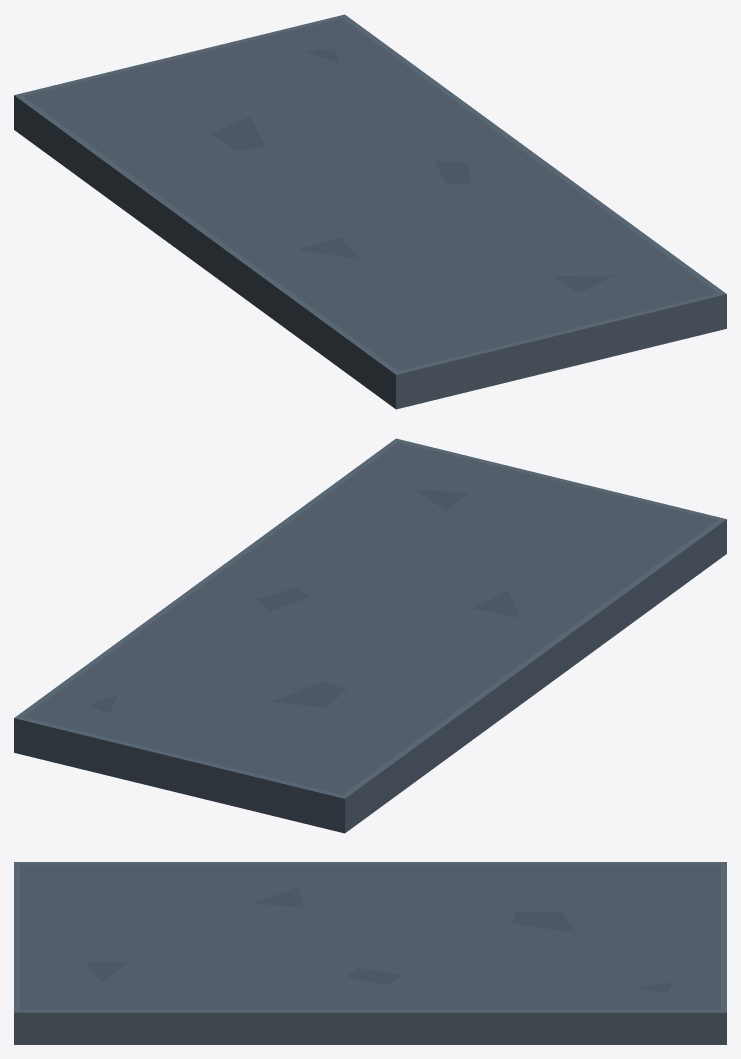
Rendered from ConcrateSlabs_C_3_3.obj.
The picture shows the model from 3 angles, top to bottom: view 1: azimuth 30°, elevation 25°; view 2: azimuth 150°, elevation 25°; view 3: azimuth 270°, elevation 25°; orthographic projection. The views are drawn at different scales.
Parts seen in each view (by area): view 1: ConcrateSlabs_C_3_3; view 2: ConcrateSlabs_C_3_3; view 3: ConcrateSlabs_C_3_3.
Part boxes in pixels (x1=…): ConcrateSlabs_C_3_3: x1=14, y1=14, x2=726, y2=409; ConcrateSlabs_C_3_3: x1=14, y1=438, x2=726, y2=833; ConcrateSlabs_C_3_3: x1=14, y1=862, x2=726, y2=1044.
Size of the model in its own units: 4 by 0.4 by 8.
